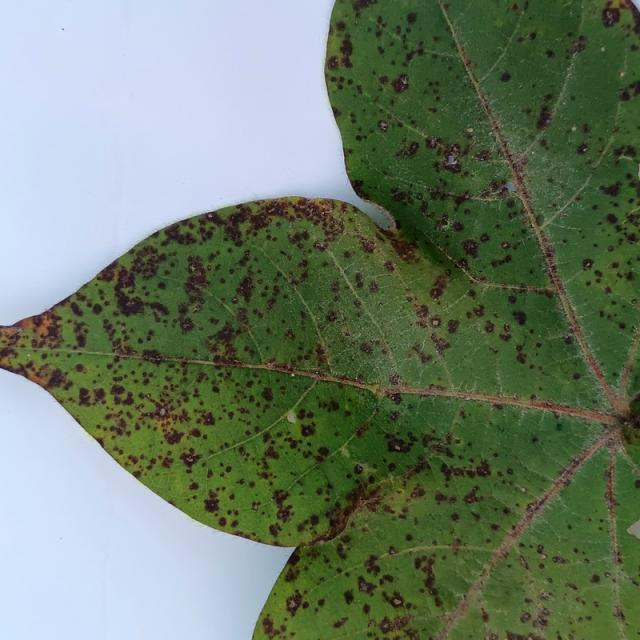Bacterial_Blight: (594, 187, 640, 249), (585, 259, 635, 298), (379, 229, 424, 264), (439, 457, 496, 482), (182, 260, 210, 296), (205, 322, 237, 350), (376, 612, 412, 635), (406, 343, 437, 367), (362, 271, 382, 302), (117, 295, 144, 317), (618, 78, 640, 104), (354, 338, 377, 361), (428, 275, 448, 300), (72, 321, 90, 348), (235, 275, 254, 300), (535, 106, 554, 131), (286, 591, 303, 616), (430, 334, 450, 355), (45, 368, 66, 388), (441, 152, 461, 173), (396, 140, 418, 159), (386, 437, 411, 453), (601, 6, 621, 26), (338, 37, 354, 61), (357, 575, 376, 595), (391, 74, 410, 94), (148, 301, 169, 319), (163, 429, 184, 446), (141, 348, 163, 364), (616, 144, 638, 160), (599, 182, 621, 198), (461, 239, 479, 258), (510, 155, 529, 173), (178, 315, 196, 333), (262, 616, 277, 637), (203, 496, 220, 514), (180, 451, 199, 467), (77, 386, 91, 405), (511, 309, 527, 325), (260, 386, 274, 403), (414, 304, 429, 319), (446, 319, 460, 334), (300, 424, 315, 437), (333, 616, 348, 629), (343, 589, 355, 605), (354, 271, 365, 288), (605, 212, 619, 225), (472, 304, 485, 317), (389, 374, 402, 387), (406, 11, 418, 24), (389, 392, 402, 404), (552, 555, 569, 564), (515, 352, 527, 364), (582, 258, 594, 270), (520, 612, 532, 624), (484, 320, 495, 333), (499, 71, 512, 82), (313, 241, 327, 251), (329, 55, 339, 69), (519, 555, 529, 569), (377, 120, 389, 131), (540, 591, 553, 601), (453, 221, 464, 232), (577, 143, 588, 154), (526, 502, 537, 513), (479, 233, 490, 242), (590, 574, 600, 583), (251, 501, 260, 511), (354, 464, 363, 474), (555, 422, 564, 431), (451, 145, 460, 154), (382, 621, 390, 631), (572, 372, 581, 380), (536, 544, 544, 553), (502, 242, 509, 248), (232, 297, 237, 302)
Cotton: (0, 0, 639, 639)
